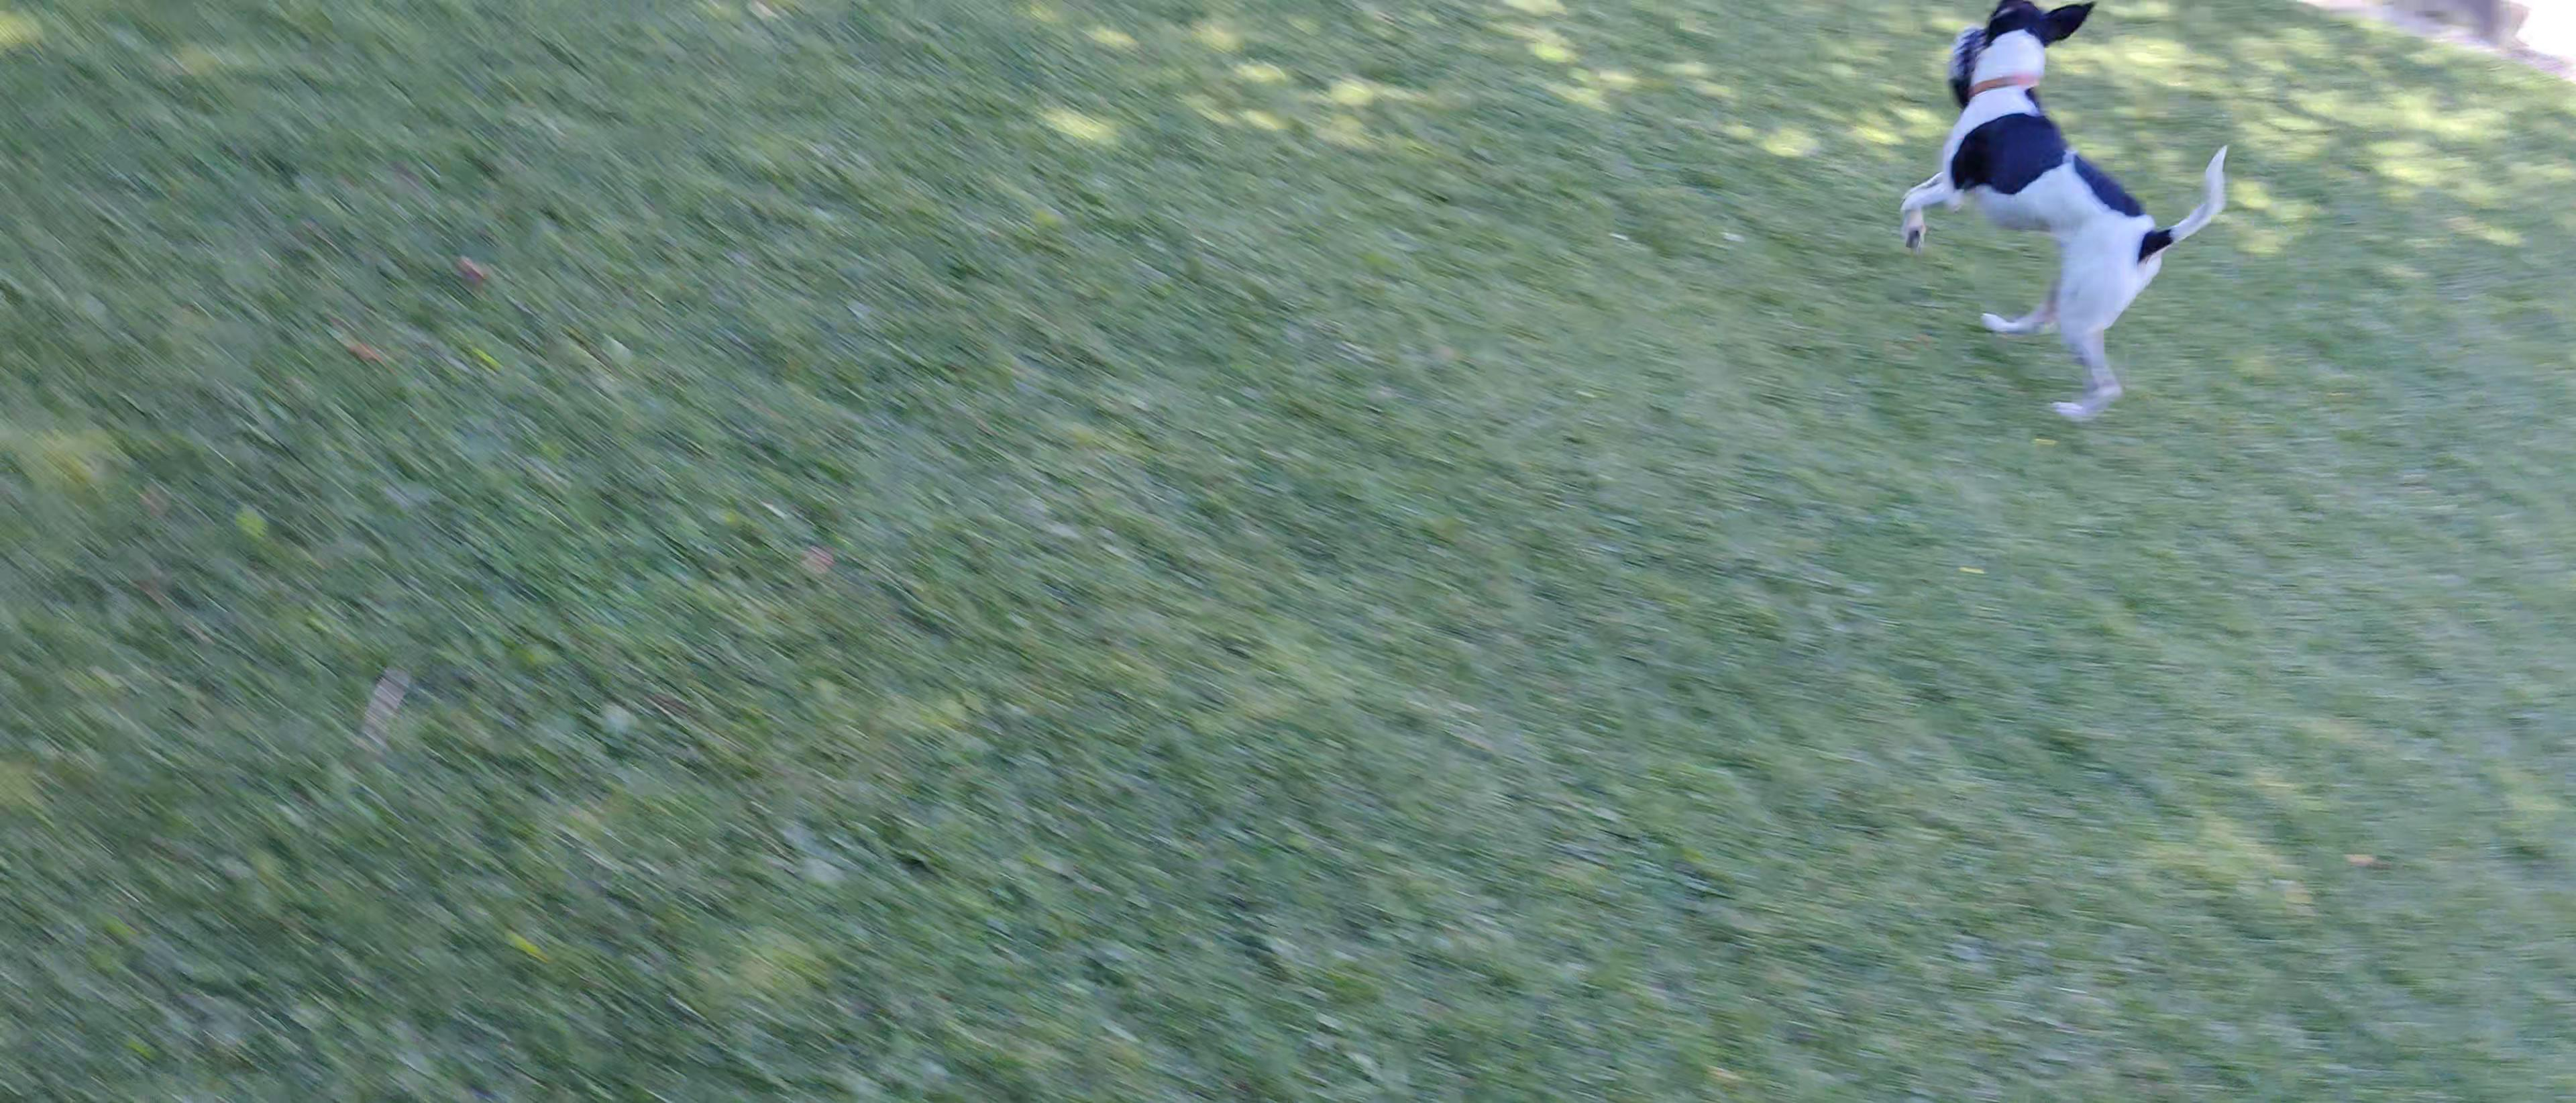Dog: (1888, 0, 2236, 441)
